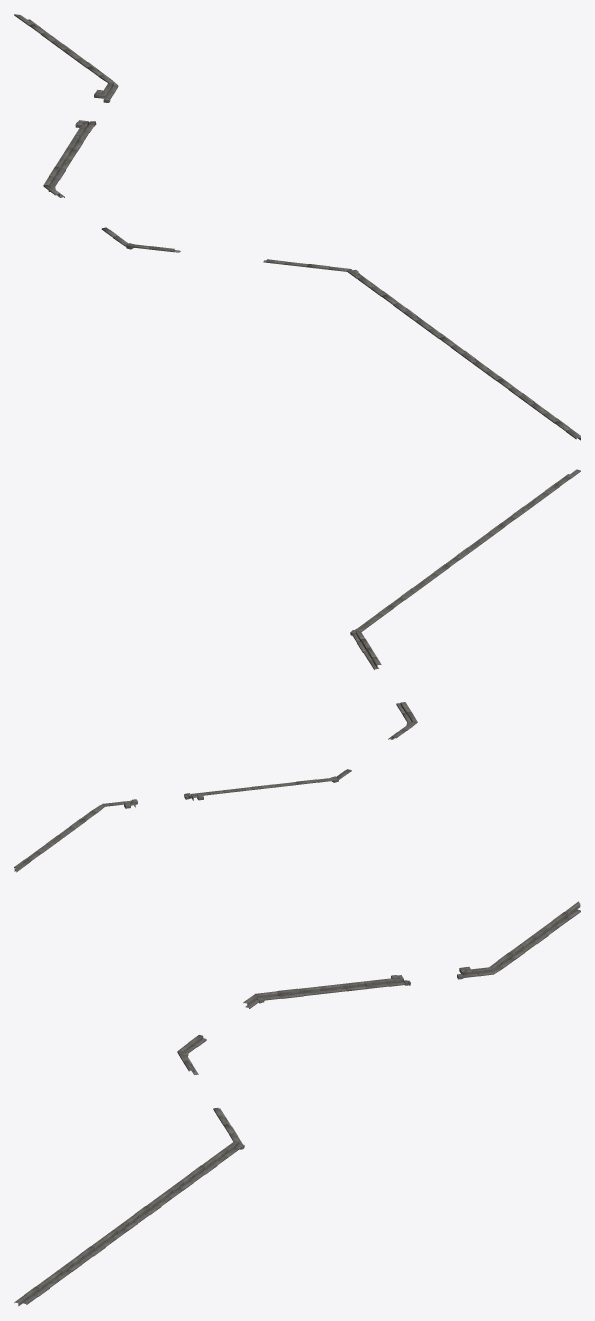
The model's file is SM_ENV_LKNVLD_Ground_Left_SideTrimOuter_01.FBX.
3 renders of one model, top to bottom at view 1: azimuth 30°, elevation 25°; view 2: azimuth 150°, elevation 25°; view 3: azimuth 330°, elevation 25°, orthographic. The views are drawn at different scales.
Visible parts, largest first — view 1: SM_ENV_LKNVLD_Ground_Left_SideTrimOuter_01; view 2: SM_ENV_LKNVLD_Ground_Left_SideTrimOuter_01; view 3: SM_ENV_LKNVLD_Ground_Left_SideTrimOuter_01.
Boxes of the visible parts, <box> form: SM_ENV_LKNVLD_Ground_Left_SideTrimOuter_01: <box>14,14,580,440</box>; SM_ENV_LKNVLD_Ground_Left_SideTrimOuter_01: <box>14,469,580,872</box>; SM_ENV_LKNVLD_Ground_Left_SideTrimOuter_01: <box>14,901,580,1306</box>.
Bounding box in the file's own units: 1664 × 58.69 × 10141.
